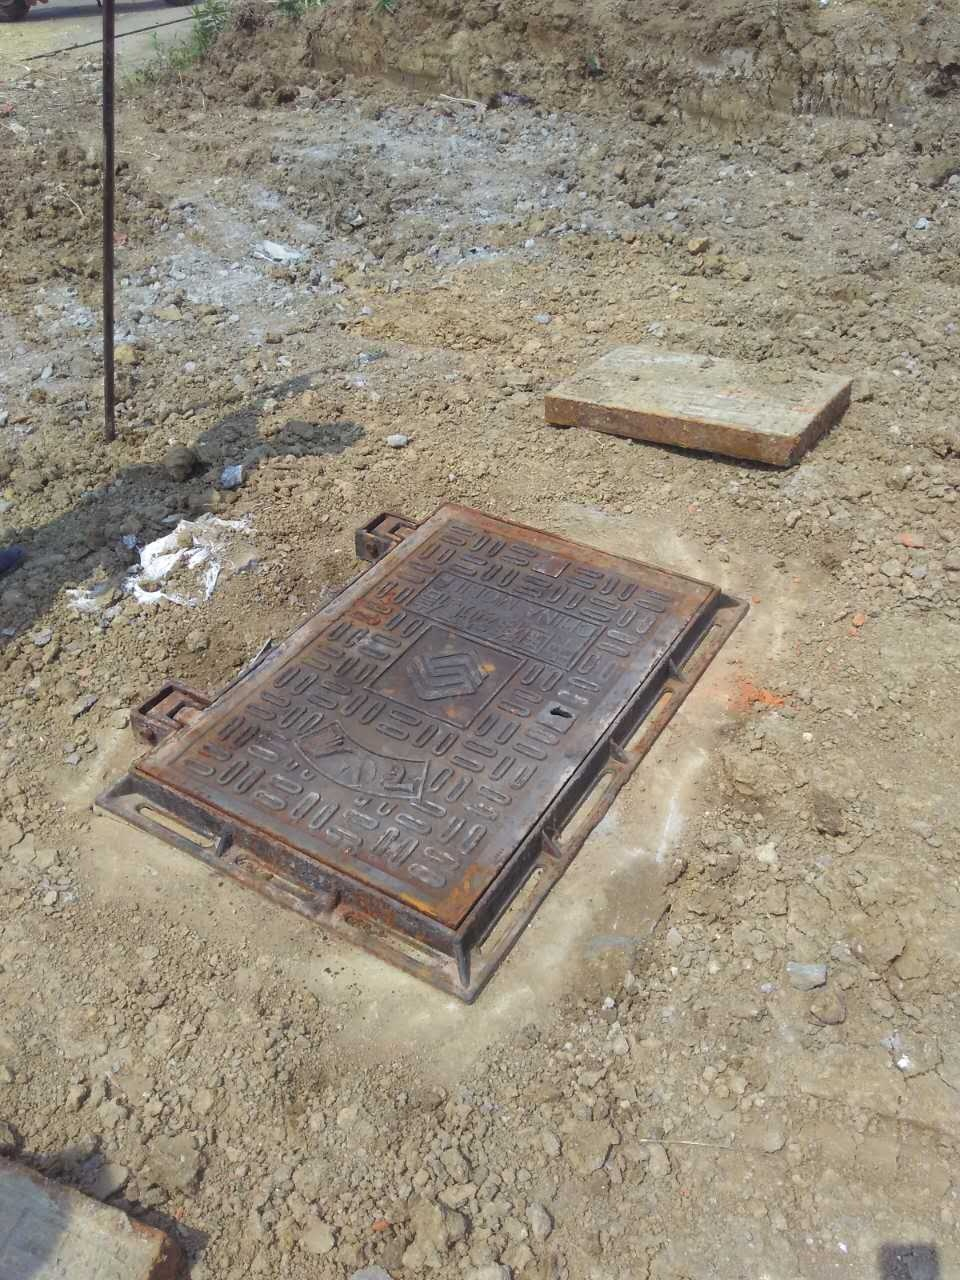well: (107, 499, 767, 1013)
